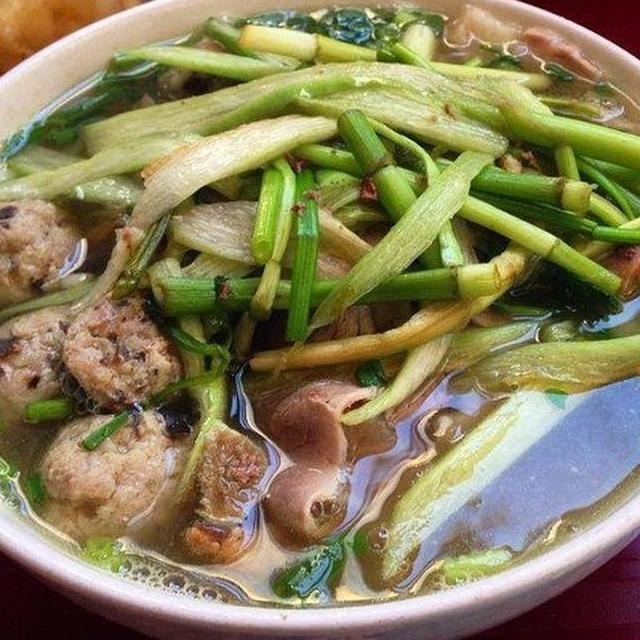vien moc: (18, 100, 208, 224), (316, 24, 490, 150), (156, 29, 354, 137), (197, 112, 360, 210)
